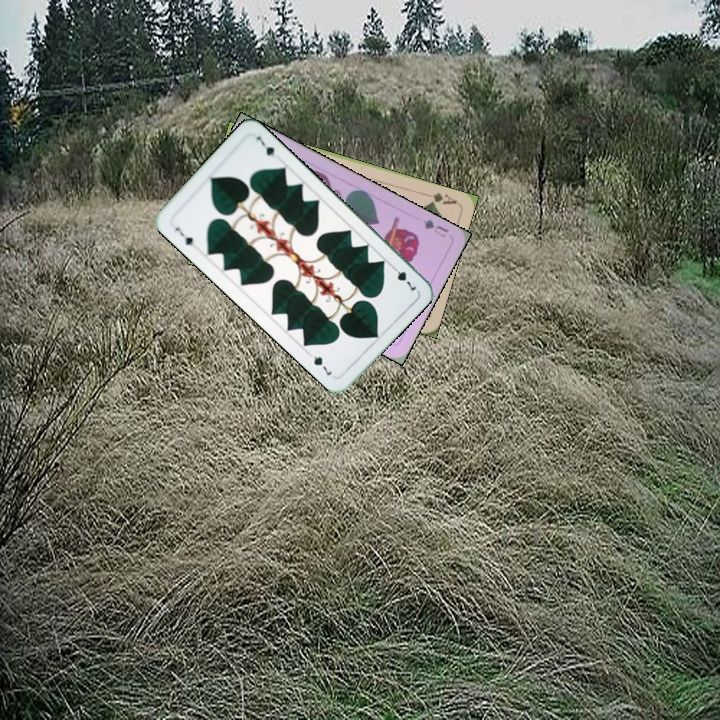G7: (387, 261, 419, 294), (171, 223, 196, 248)
GA: (420, 189, 460, 208)
GU: (419, 215, 451, 240)
